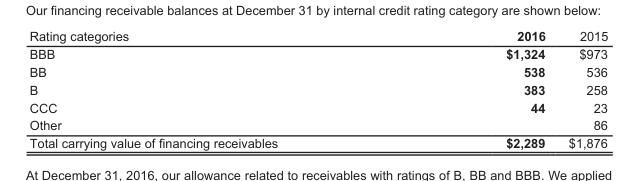table: (28, 28, 607, 150)
table column: (28, 28, 391, 150), (391, 28, 556, 150), (556, 28, 607, 150)
table column header: (28, 28, 607, 44)
table row: (28, 44, 607, 62), (28, 62, 607, 80), (28, 80, 607, 98), (28, 98, 607, 116), (28, 116, 607, 133), (28, 133, 607, 150), (28, 28, 607, 44)
